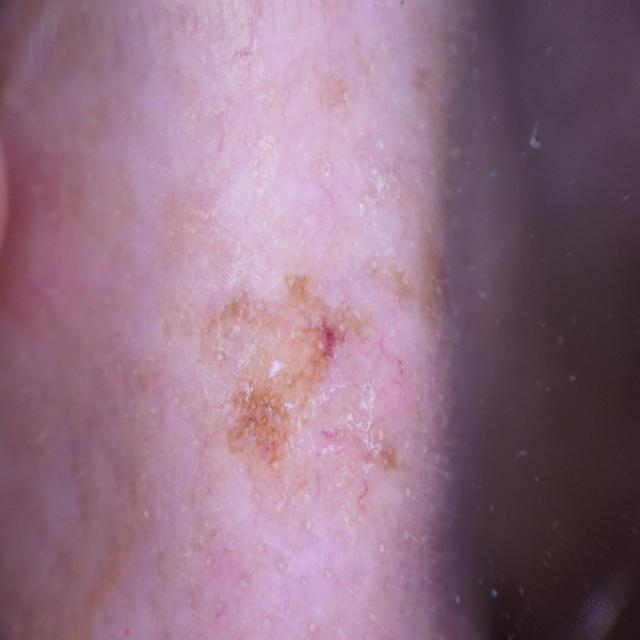Skin-Cancer Pigmented benign keratosis: (35, 43, 586, 640)
